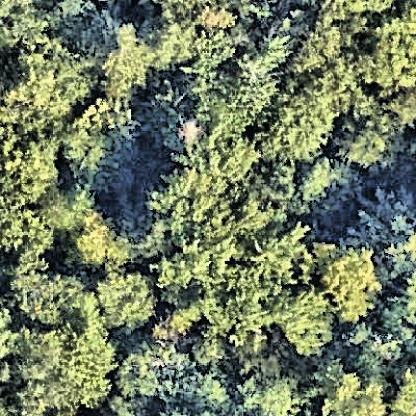tree-top: (169, 60, 267, 179), (8, 324, 120, 416), (156, 171, 245, 268), (296, 21, 379, 112), (1, 41, 95, 119), (8, 267, 98, 340), (311, 235, 381, 327), (258, 86, 332, 166), (196, 268, 269, 344), (97, 25, 160, 109), (1, 117, 64, 201), (113, 333, 189, 402), (95, 261, 162, 339), (66, 117, 139, 183), (274, 281, 338, 355), (69, 209, 141, 267), (256, 223, 318, 285), (317, 367, 390, 416), (1, 203, 59, 264), (338, 112, 394, 172), (348, 327, 405, 385), (240, 372, 309, 416), (145, 9, 192, 72), (380, 9, 416, 87), (1, 5, 45, 55)
